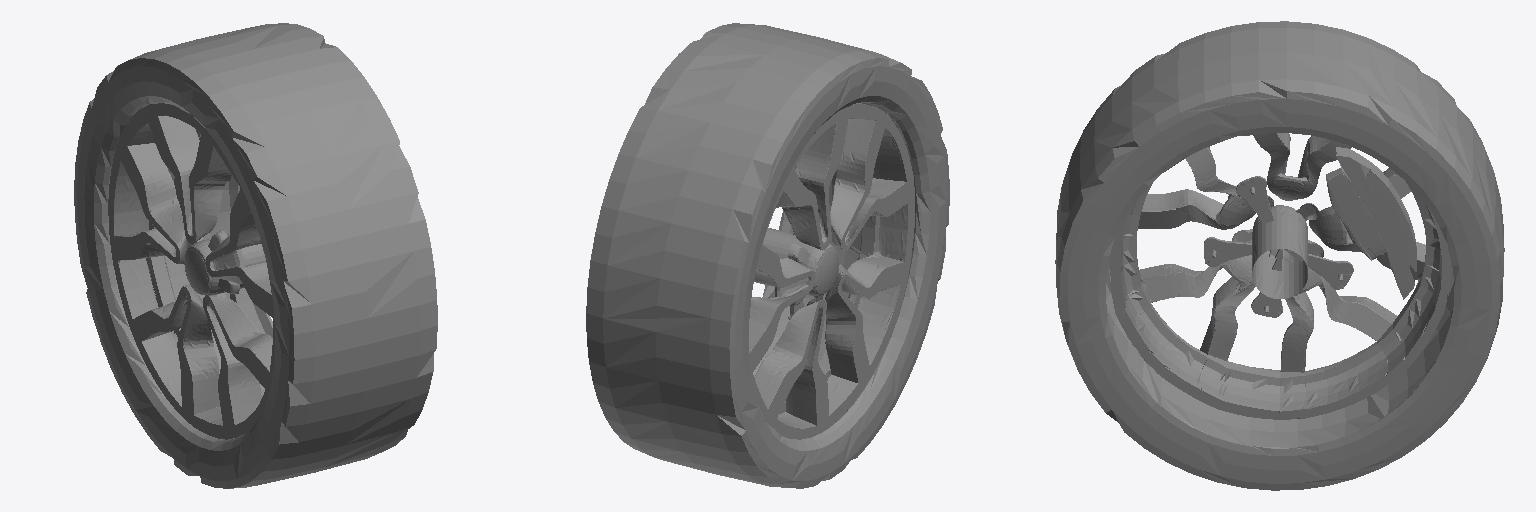
Rendered from LlantaAudi.obj.
3 views of the same model, side by side, from view 1: azimuth 30°, elevation 25°; view 2: azimuth 150°, elevation 25°; view 3: azimuth 270°, elevation 25° (orthographic).
Visible parts, largest first — view 1: Object045; view 2: Object045; view 3: Object045.
Part boxes in pixels (x1,y1,x2,y2): Object045: (74,23,437,488); Object045: (586,23,949,488); Object045: (1055,21,1504,490).
Bounding box in the file's own units: 0.7786 × 2.07 × 2.07.